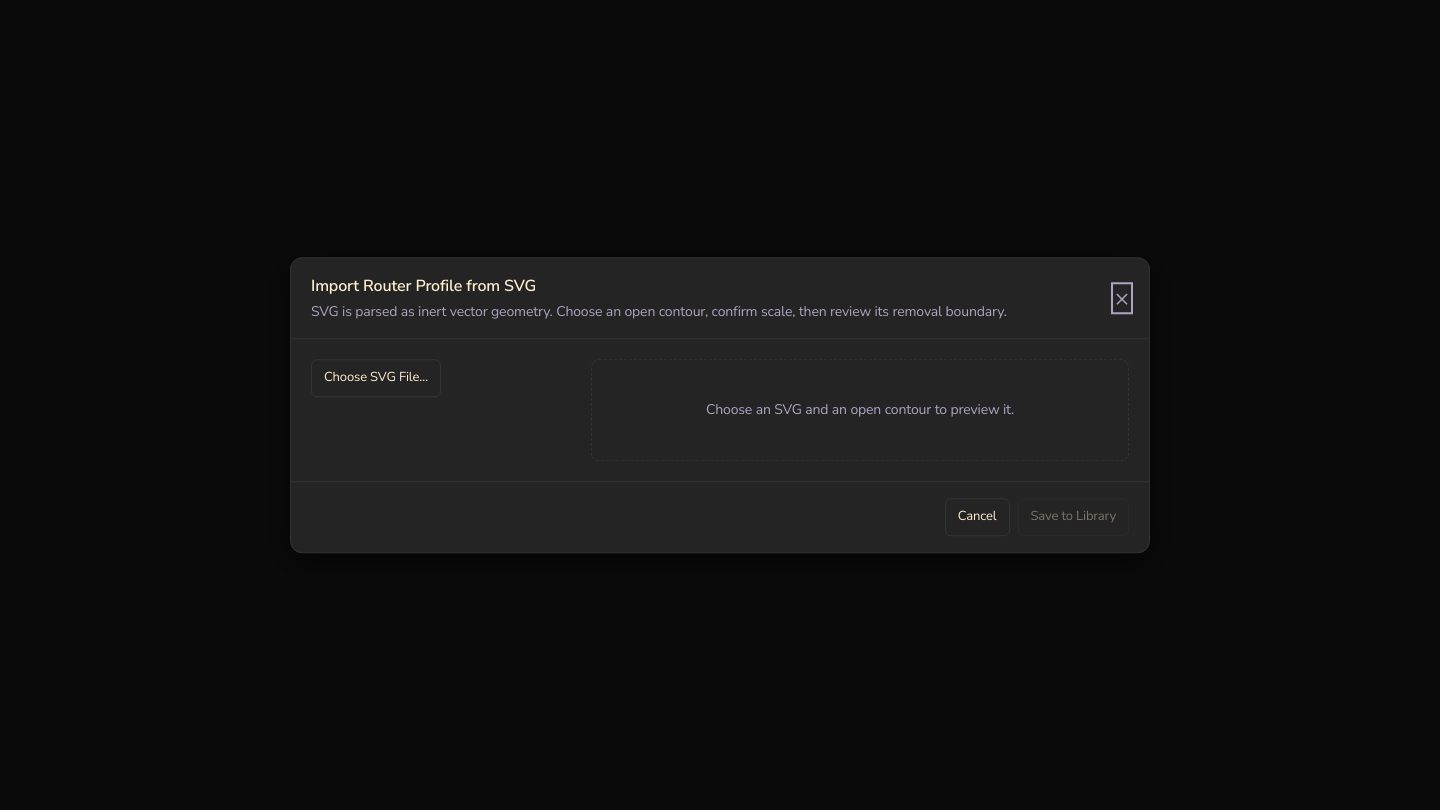
Scenario: SvgRouterProfileImportDialog › blocks ambiguous contours until an explicit open contour is selected
Click the button "Choose SVG File…". click: x=376, y=378
box: [311,359,441,397]
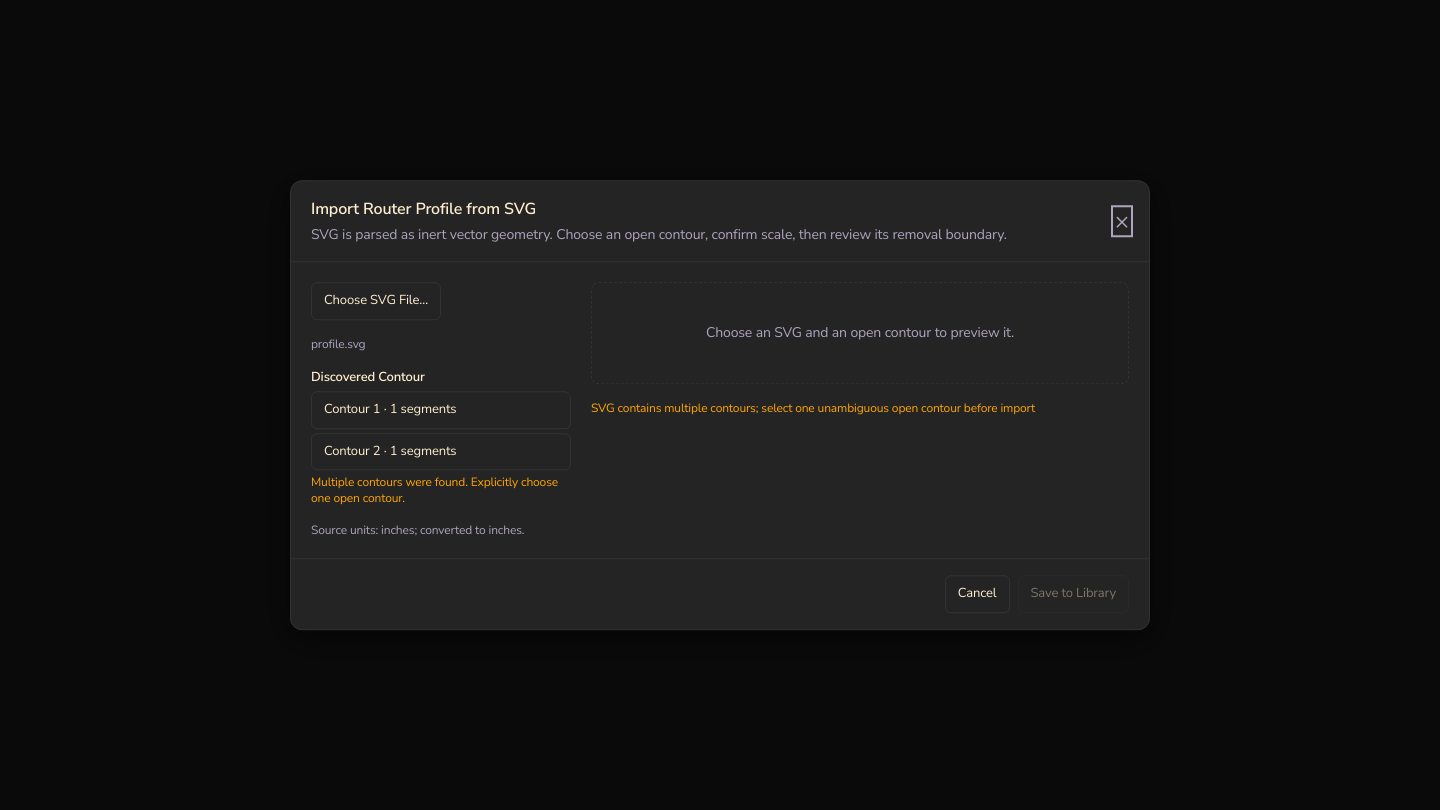
Expected: the button "Save to Library" is disabled, [1018,575,1129,613]
Now the text "Multiple contours were found. Explicitly choose one open contour." is shown, box [311,474,571,506]
Click the button "Contour 1 · 1 segments". click: x=441, y=410
box: [311,391,571,429]
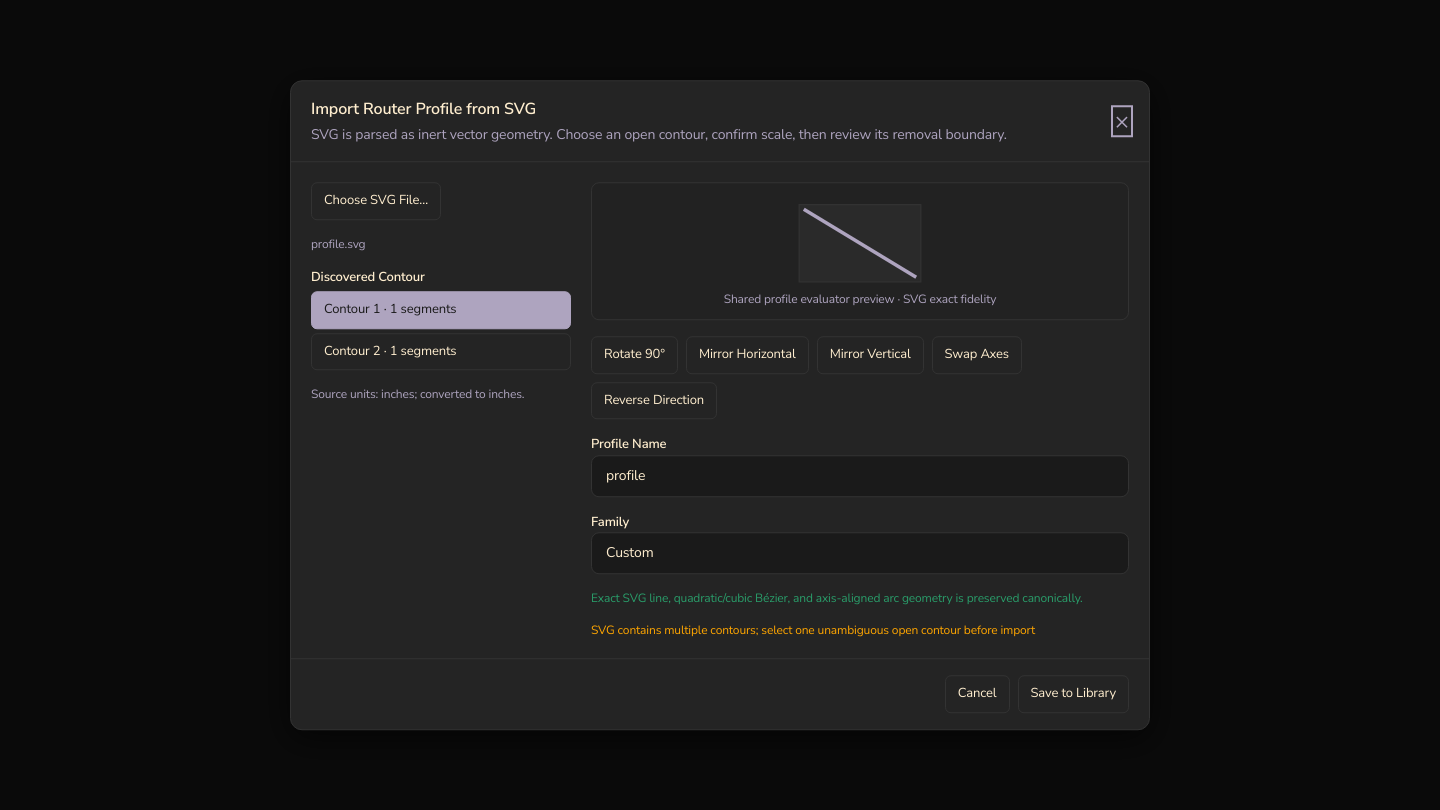
Now the button "Save to Library" is enabled, box [1018,675,1129,713]
